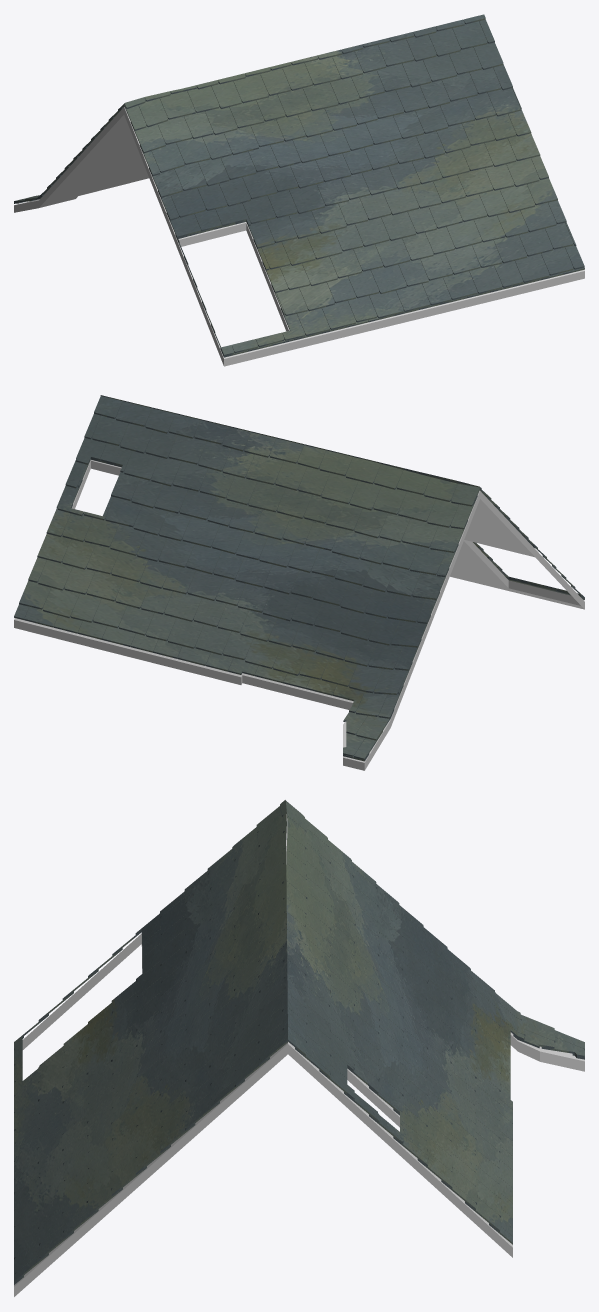
Rendered from CM_SlateRoofKit01_Fitted_RearCross.fbx.
3 views of the same model, one above another, from view 1: azimuth 30°, elevation 25°; view 2: azimuth 150°, elevation 25°; view 3: azimuth 270°, elevation 25° (orthographic). The views are drawn at different scales.
Parts seen in each view (by area): view 1: CM_SlateRoofKit01_Fitted_RearCross_Slate, CM_SlateRoofKit01_Fitted_RearCross_Underlay; view 2: CM_SlateRoofKit01_Fitted_RearCross_Slate, CM_SlateRoofKit01_Fitted_RearCross_Underlay; view 3: CM_SlateRoofKit01_Fitted_RearCross_Slate, CM_SlateRoofKit01_Fitted_RearCross_Underlay.
Boxes of the visible parts, left/top/right/bottom form: CM_SlateRoofKit01_Fitted_RearCross_Slate: left=14, top=14, right=584, bottom=357; CM_SlateRoofKit01_Fitted_RearCross_Underlay: left=14, top=107, right=584, bottom=366; CM_SlateRoofKit01_Fitted_RearCross_Slate: left=14, top=395, right=584, bottom=761; CM_SlateRoofKit01_Fitted_RearCross_Underlay: left=14, top=460, right=584, bottom=770; CM_SlateRoofKit01_Fitted_RearCross_Slate: left=14, top=800, right=584, bottom=1284; CM_SlateRoofKit01_Fitted_RearCross_Underlay: left=14, top=814, right=584, bottom=1296.
Size of the model in its own units: 4.96 by 2.51 by 5.
